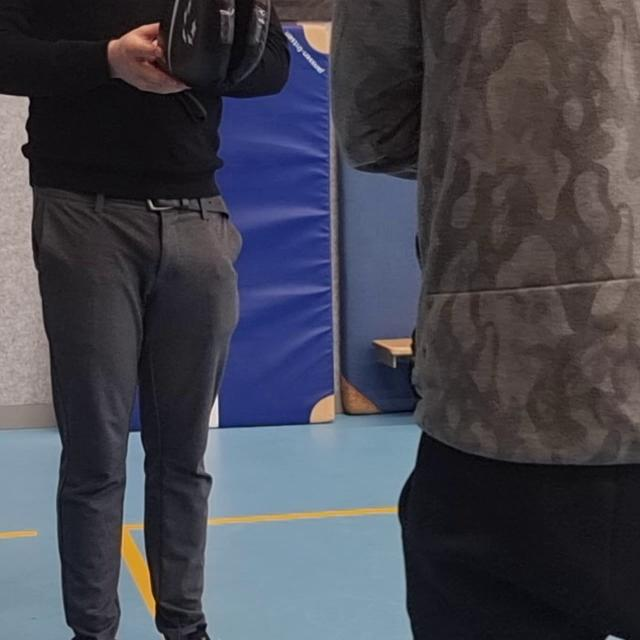paddle: (162, 0, 265, 89)
